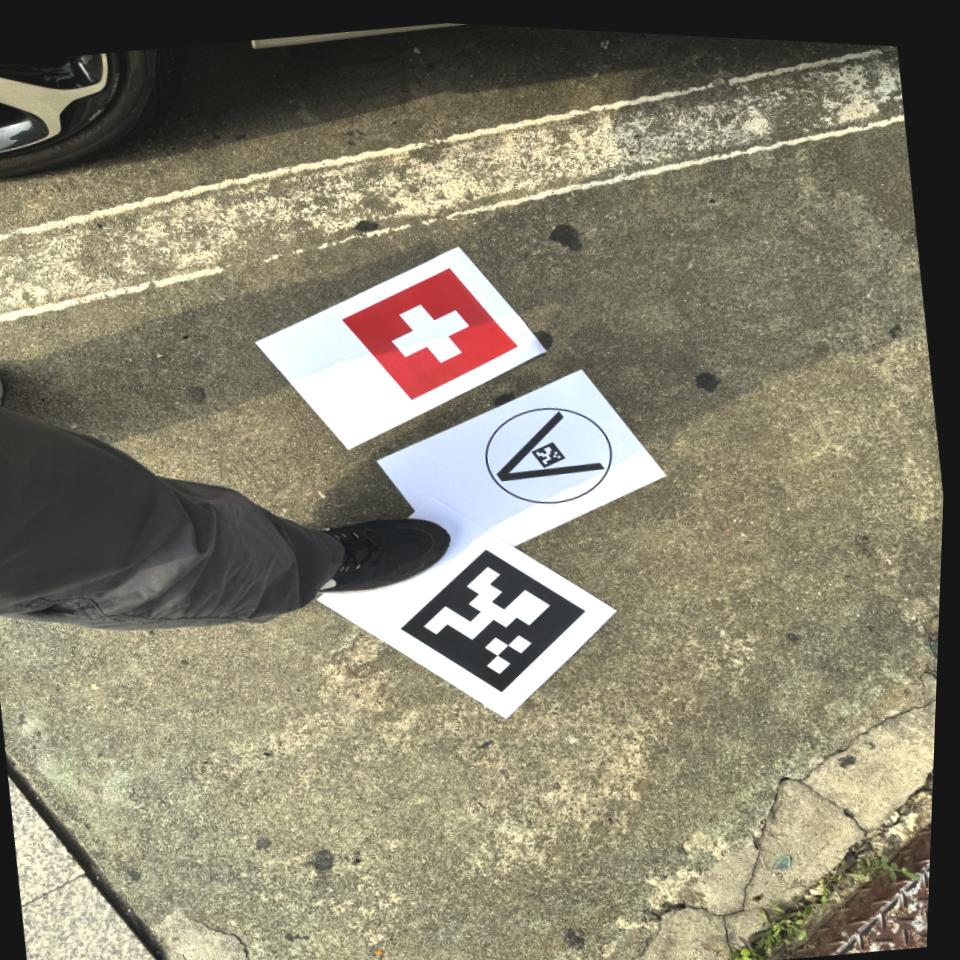ArUro mark: (397, 546, 591, 696)
rescue point: (337, 264, 522, 407)
vertiport: (471, 394, 625, 521)
